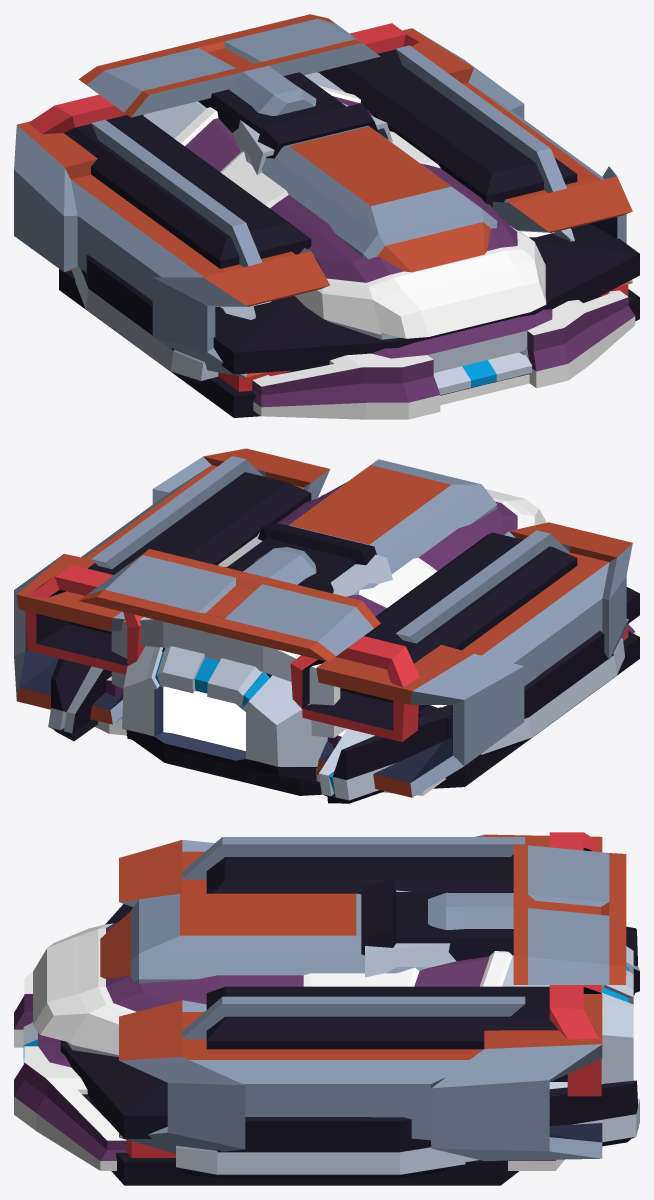
File: Racers.glb
The picture shows the model from 3 angles, top to bottom: view 1: azimuth 30°, elevation 25°; view 2: azimuth 150°, elevation 25°; view 3: azimuth 270°, elevation 25°; orthographic projection. The views are drawn at different scales.
Visible parts, largest first — view 1: Javelin, Goliath, Zephyr, QuickSilver; view 2: Javelin, Goliath, QuickSilver, Zephyr; view 3: Javelin, Goliath, Zephyr, QuickSilver.
Boxes of the visible parts, x1,y1,x2,y2 form: Javelin: (14,14,632,377); Goliath: (28,23,639,417); Zephyr: (143,72,635,419); QuickSilver: (72,102,574,395); Javelin: (14,448,632,797); Goliath: (25,472,639,795); QuickSilver: (48,532,624,803); Zephyr: (95,482,635,795); Javelin: (100,834,626,1160); Goliath: (60,832,601,1185); Zephyr: (14,921,604,1170); QuickSilver: (23,890,639,1178).
Size of the model in its own units: 2.27 by 0.8825 by 2.49.
2 materials, 1 textured.
